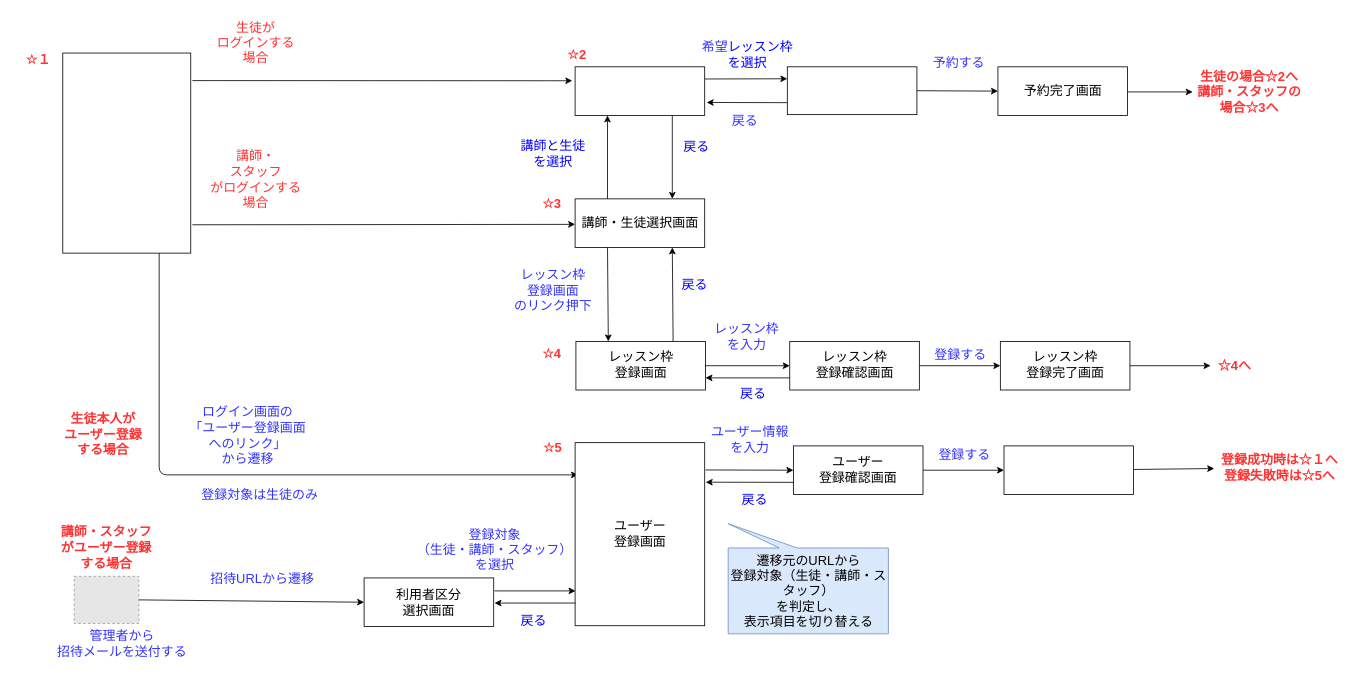
Some shapes in this 1358 by 678 pixel diagram are drawn without their labels. Grey dashed boxes stand in for pictures. Each missing label, with the box of its shape:
ユーザー登録 完了画面: (1003, 445, 1134, 495)
ログイン画面: (62, 52, 191, 253)
予約確認画面: (787, 66, 917, 115)
空き枠選択画面: (574, 66, 705, 115)
